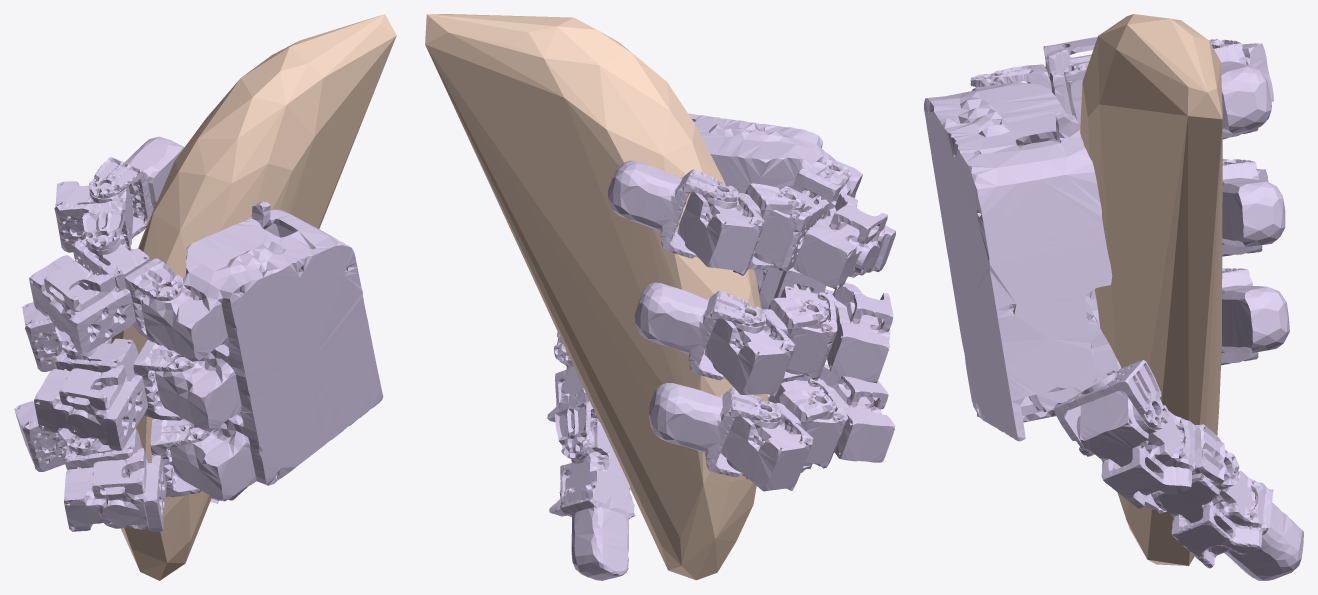
Rendered from f2f0378331b608-closed.glb.
3 renders of one model, left to right at view 1: azimuth 30°, elevation 25°; view 2: azimuth 150°, elevation 25°; view 3: azimuth 270°, elevation 25°, orthographic. The views are drawn at different scales.
Visible parts, largest first — view 1: LEAP_hand, world; view 2: LEAP_hand, world; view 3: LEAP_hand, world.
Part boxes in pixels (left/top/right/bottom): LEAP_hand: left=14, top=136, right=383, bottom=532; world: left=111, top=14, right=396, bottom=580; LEAP_hand: left=547, top=113, right=895, bottom=580; world: left=425, top=14, right=767, bottom=580; LEAP_hand: left=924, top=37, right=1303, bottom=580; world: left=1080, top=14, right=1222, bottom=565.
Bounding box in the file's own units: 0.2221 × 0.2634 × 0.144.
